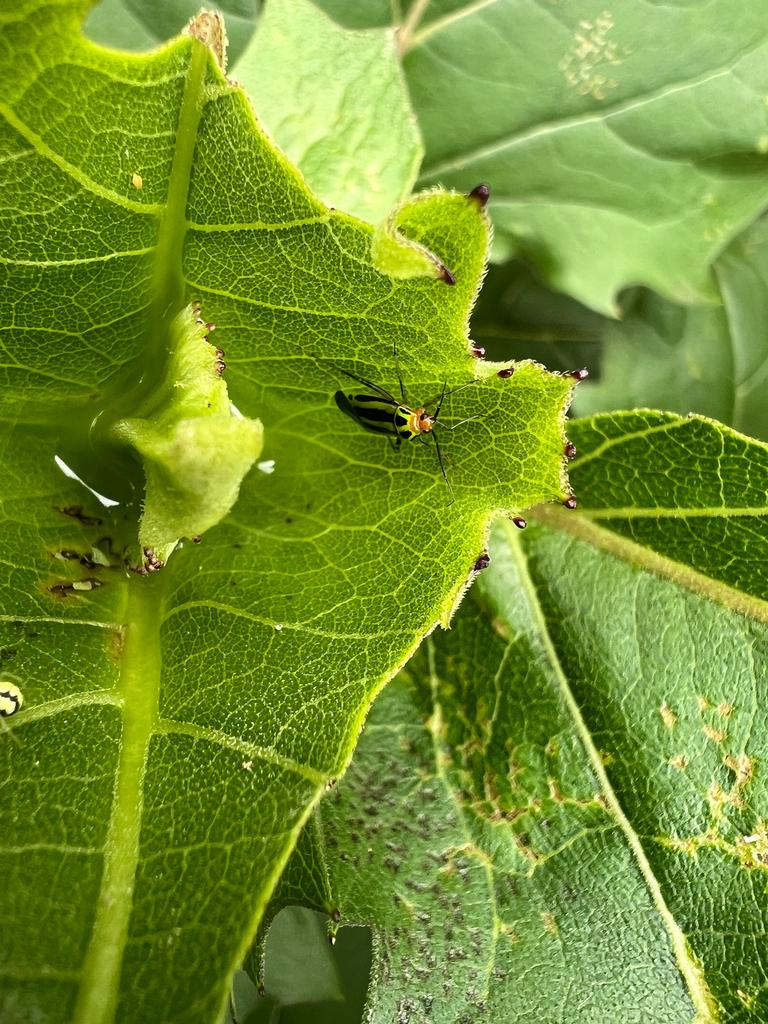plant_bugs: (301, 333, 496, 500)
